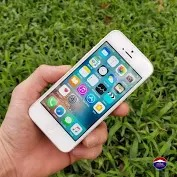iphone: (26, 25, 154, 153)
iphone6: (26, 26, 154, 154)
